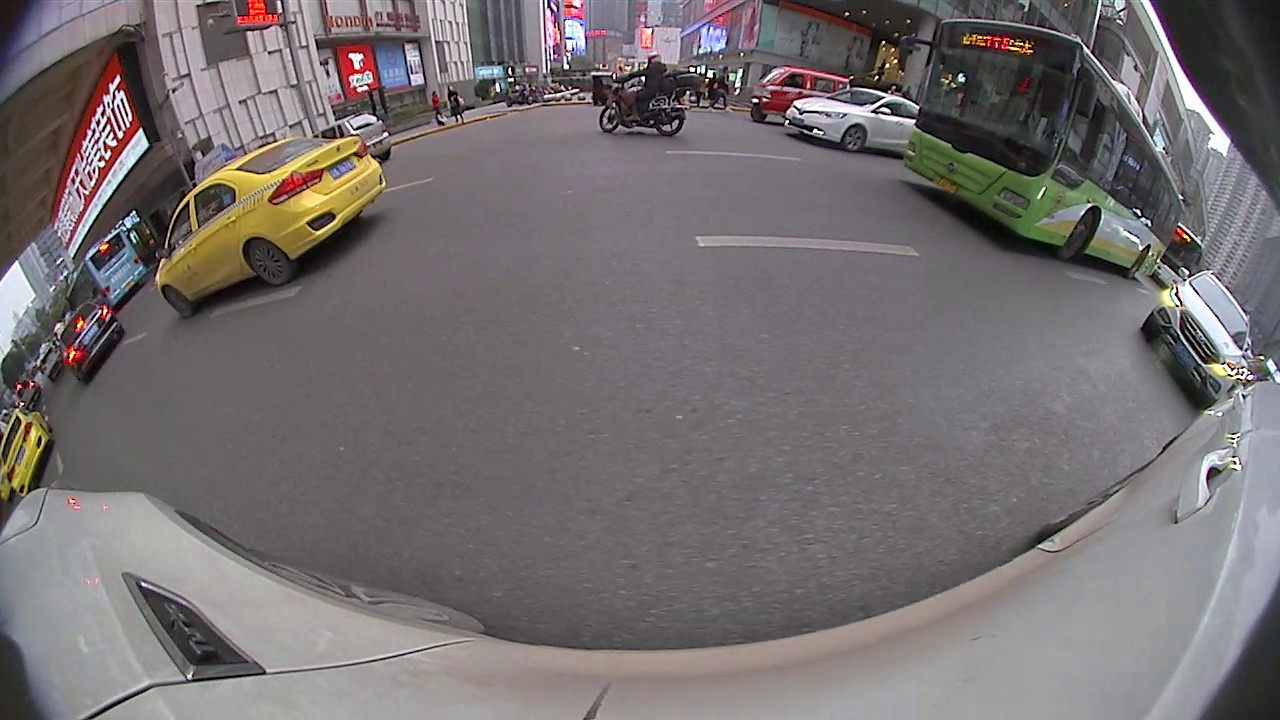bus: (899, 18, 1183, 280), (57, 229, 154, 310)
car: (144, 124, 379, 321), (1137, 269, 1261, 406), (781, 82, 929, 160), (54, 304, 123, 382), (1, 404, 56, 500)
front: (1060, 208, 1101, 261), (157, 286, 197, 319), (844, 128, 866, 151), (601, 106, 618, 133)
rear: (241, 243, 297, 286), (656, 105, 685, 134)
rider: (597, 49, 697, 140), (748, 66, 850, 133)
